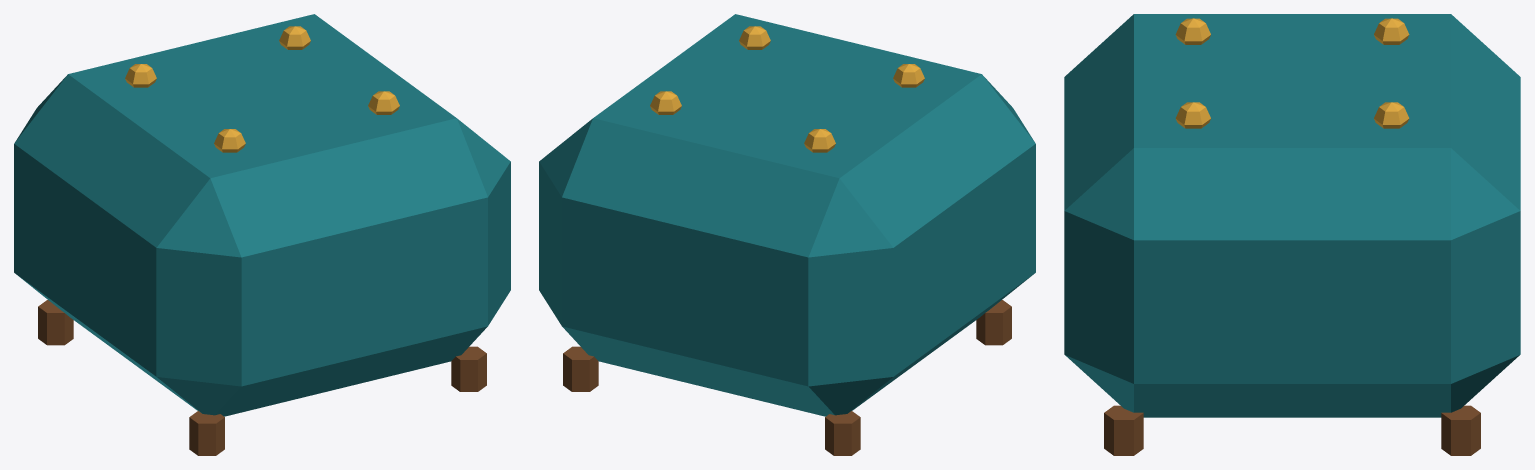
The model's file is pouf_square.glb.
3 renders of one model, left to right at view 1: azimuth 30°, elevation 25°; view 2: azimuth 150°, elevation 25°; view 3: azimuth 270°, elevation 25°, orthographic. The views are drawn at different scales.
Parts seen in each view (by area): view 1: pouf_square; view 2: pouf_square; view 3: pouf_square.
Part boxes in pixels (<box>): pouf_square: <box>14,14,510,455</box>; pouf_square: <box>539,14,1035,455</box>; pouf_square: <box>1064,14,1520,455</box>.
Size of the model in its own units: 0.46 by 0.353 by 0.46.
